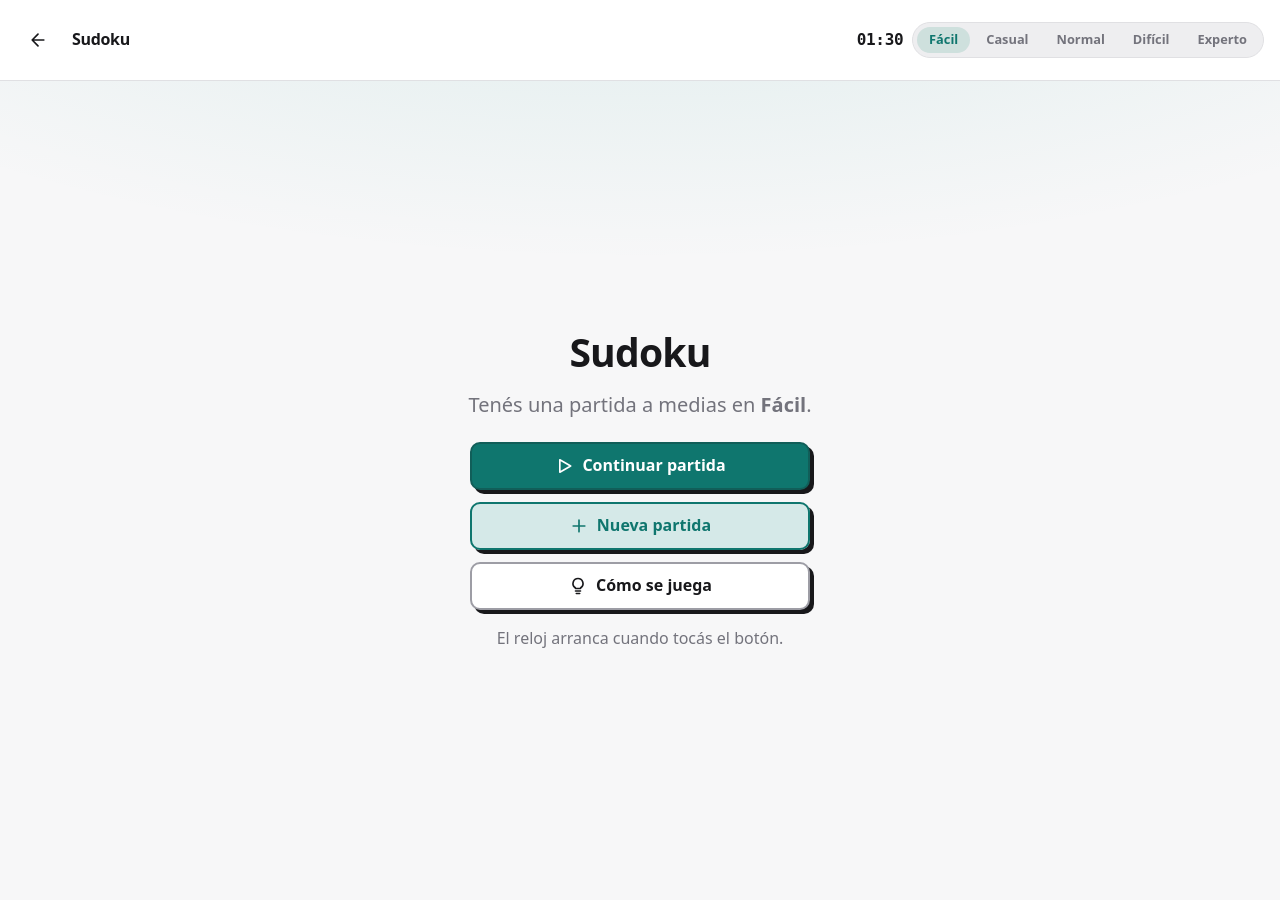
inside the shell › wins through the shell when the last cell is filled
Click the button "Continuar partida": (640,466) [470, 442, 810, 490]
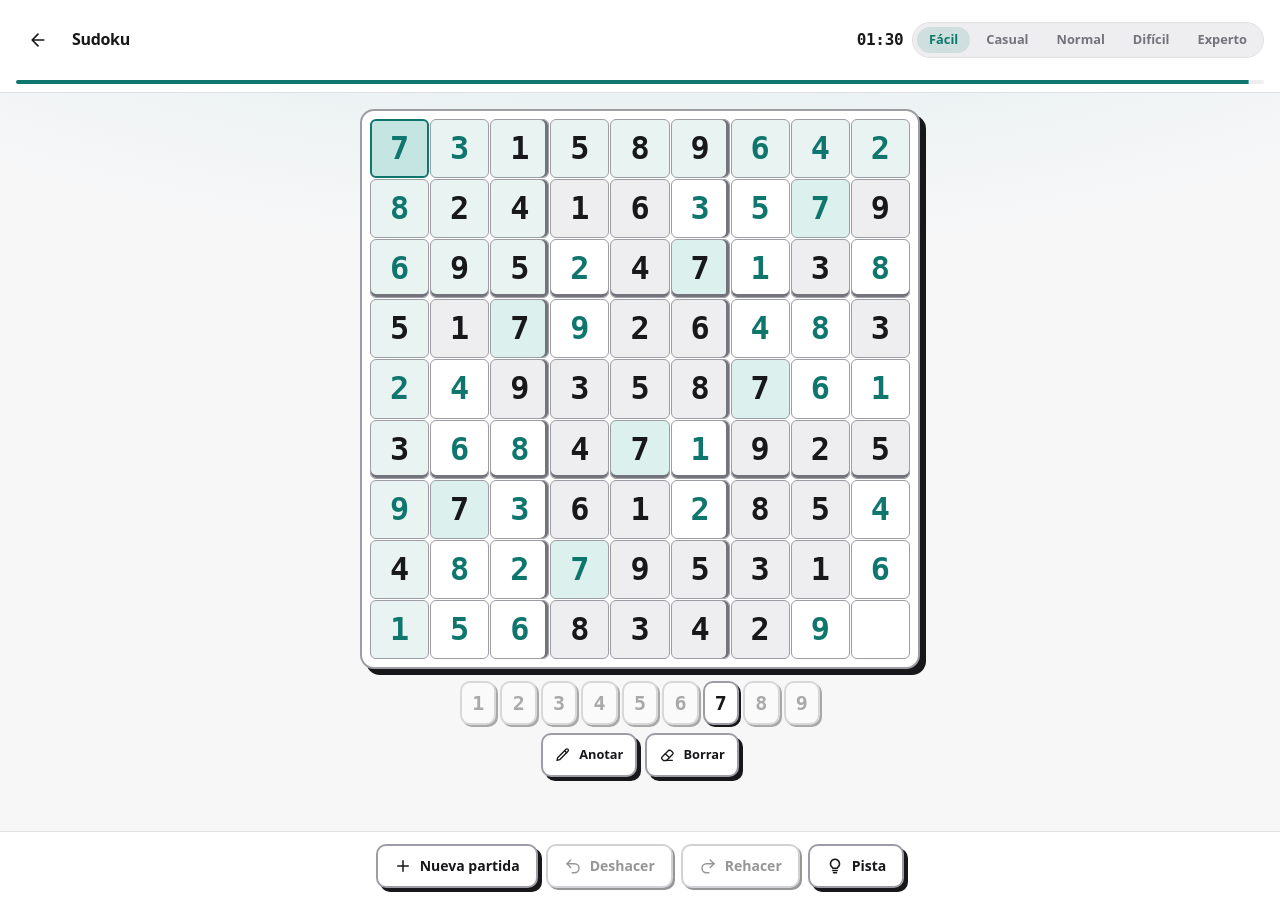
Now the table named "Tablero de Sudoku" is shown, box [370, 119, 910, 659]
Click the cell named "fila 9, columna 9, vacía": (880,629) [851, 600, 910, 659]
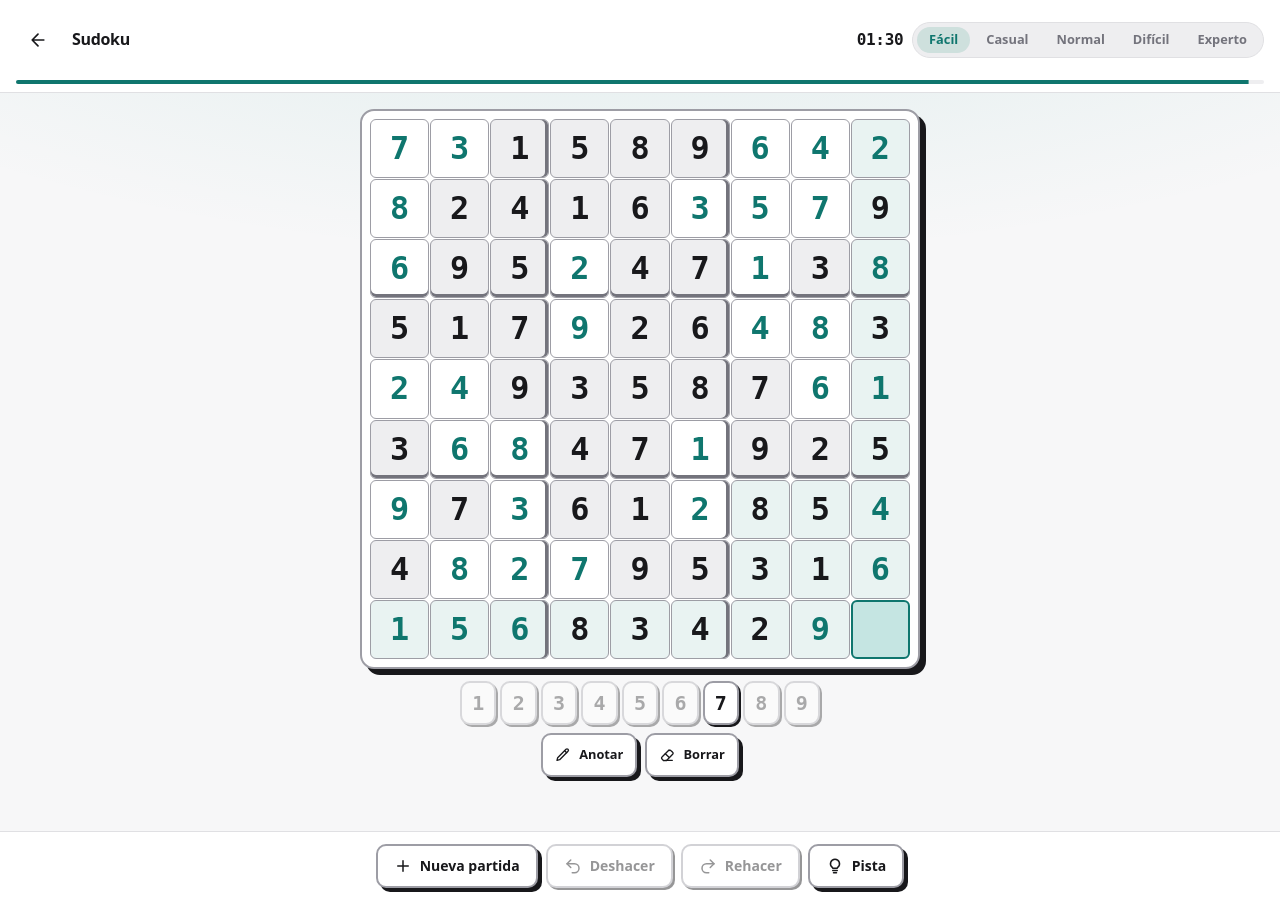
Type keys "7"
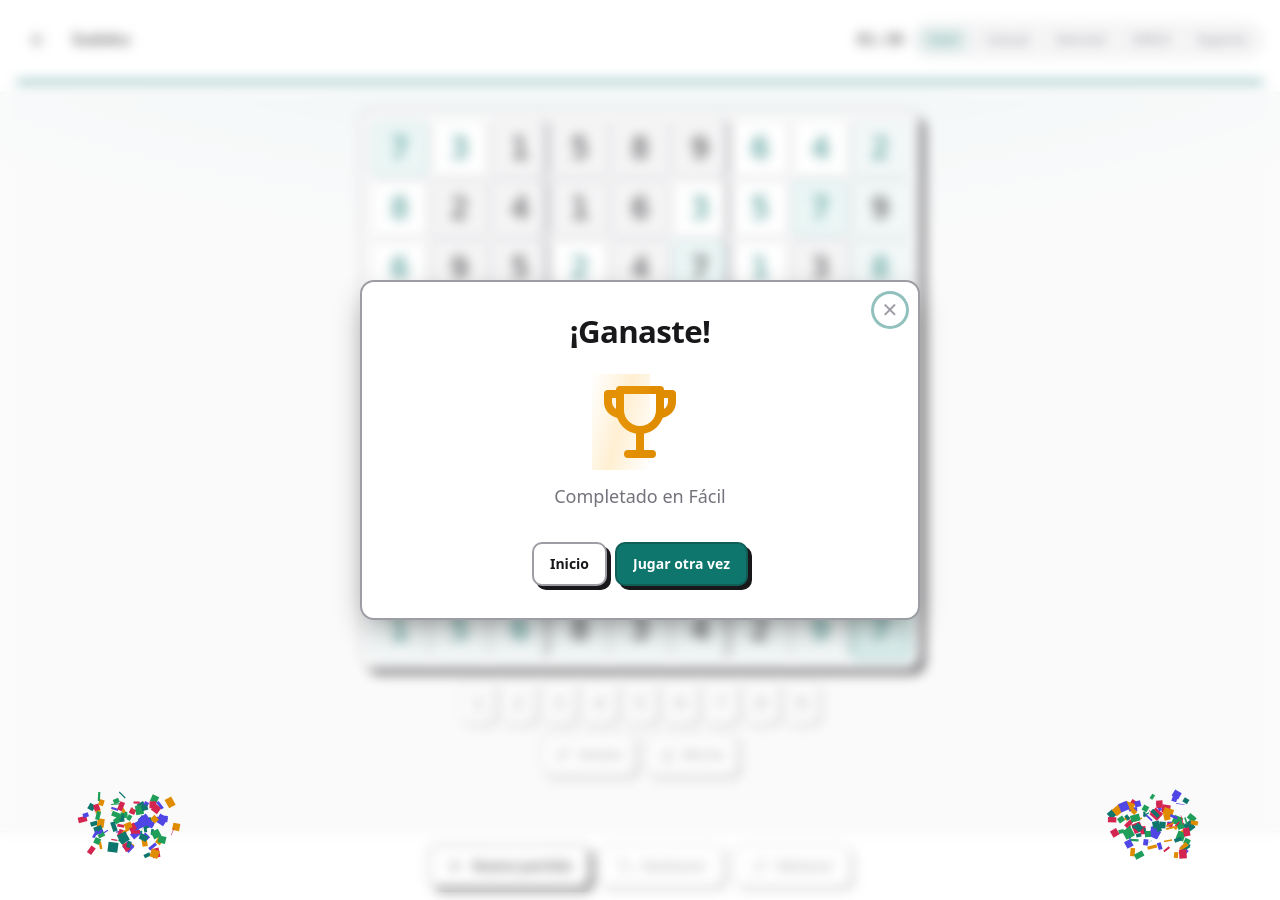
Now the heading "¡Ganaste!" is shown, box [570, 310, 710, 352]
